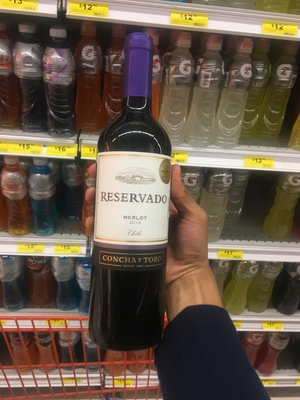reservado merlot: (77, 33, 184, 353)
